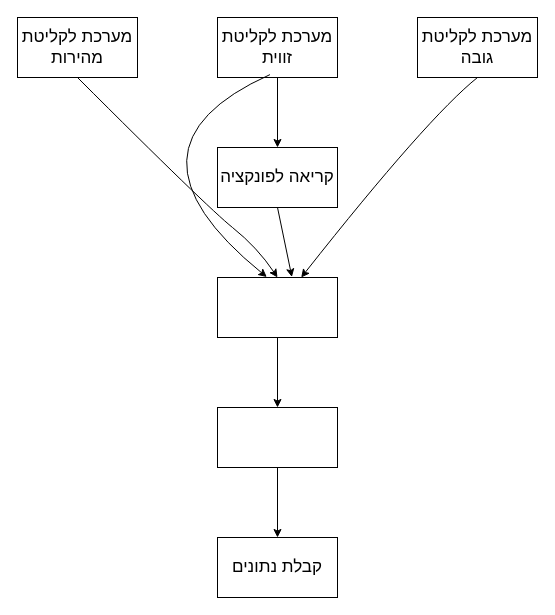
The diagram is 555 pixels wide and 615 high, and some of its shapes have lost their labels. Each missing label, with the box of its shape:
חישוב: (216, 406, 338, 468)
שליחת נתונים לפונקציה: (216, 276, 338, 338)
